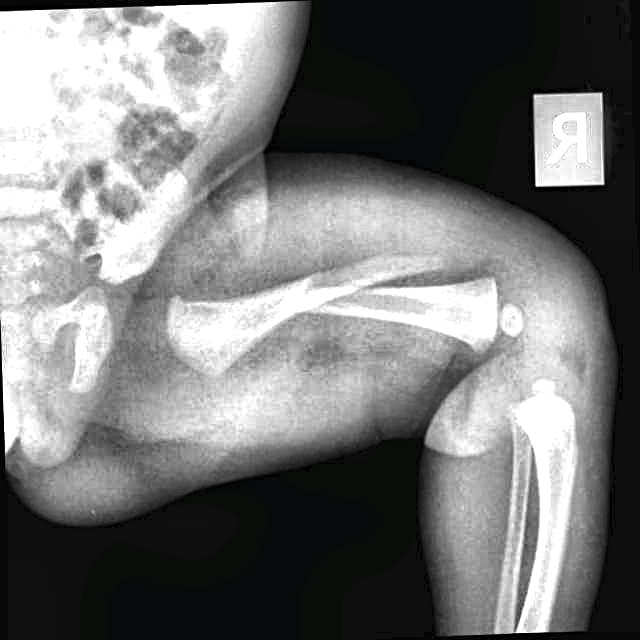Spiral: (271, 242, 473, 330)
